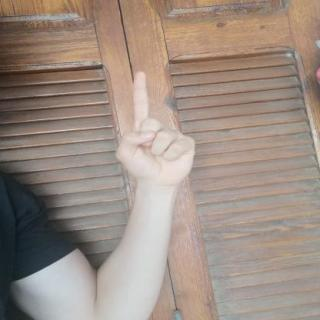BAA: (106, 62, 210, 190)
